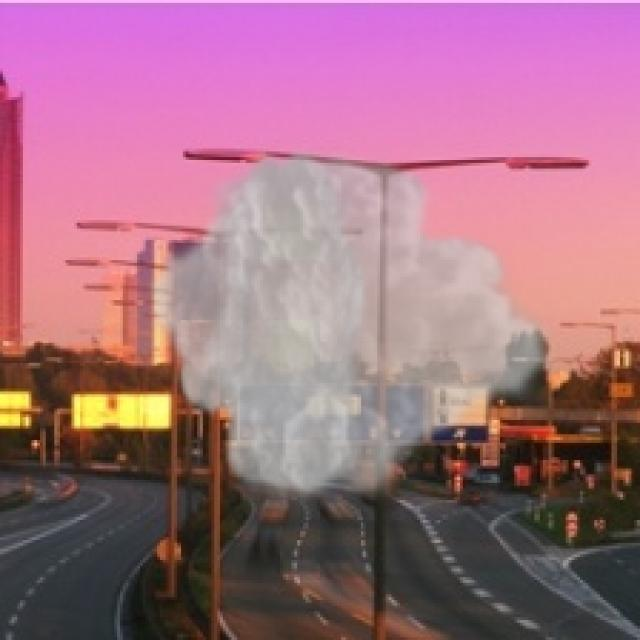smoke: (146, 140, 557, 509)
